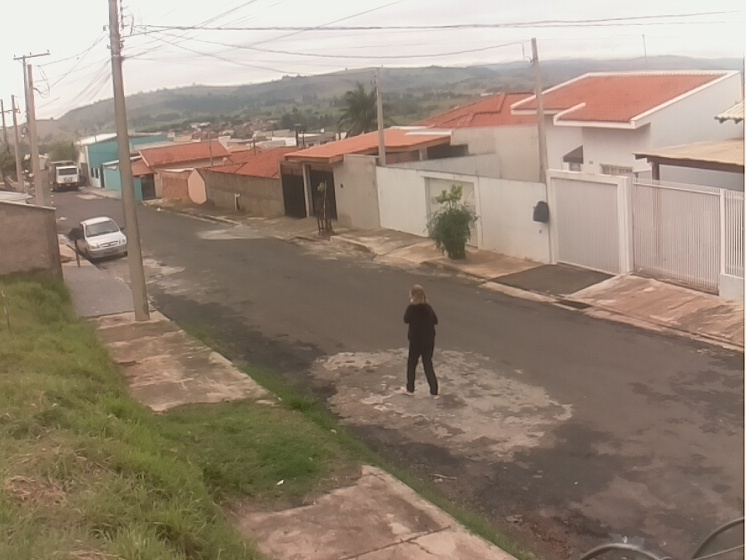person: (402, 283, 441, 401)
